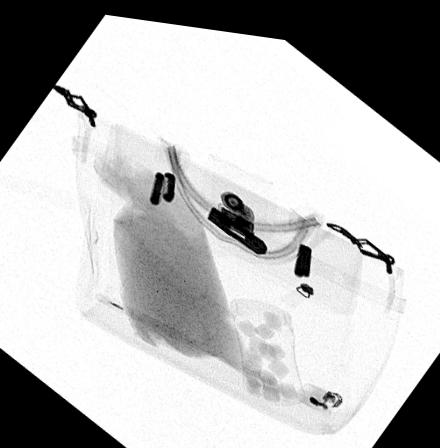Lighter: (296, 372, 342, 402)
